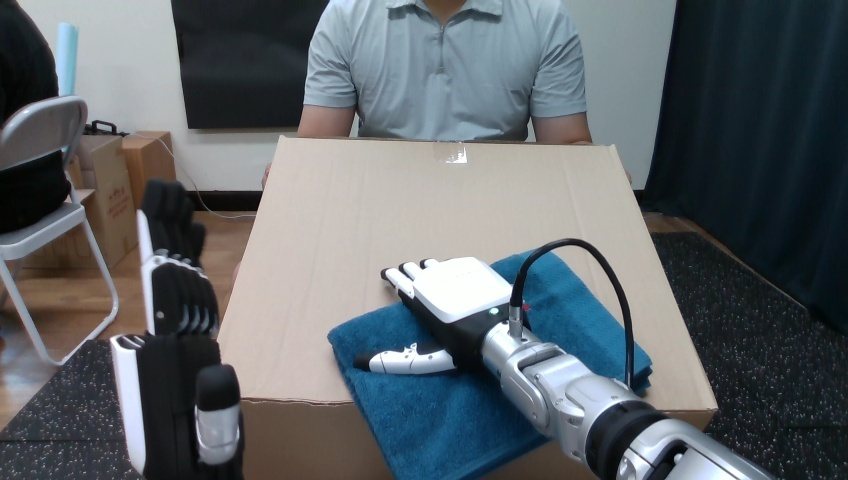left robot hand: (354, 239, 770, 479), (111, 179, 243, 478), (521, 244, 626, 383)
